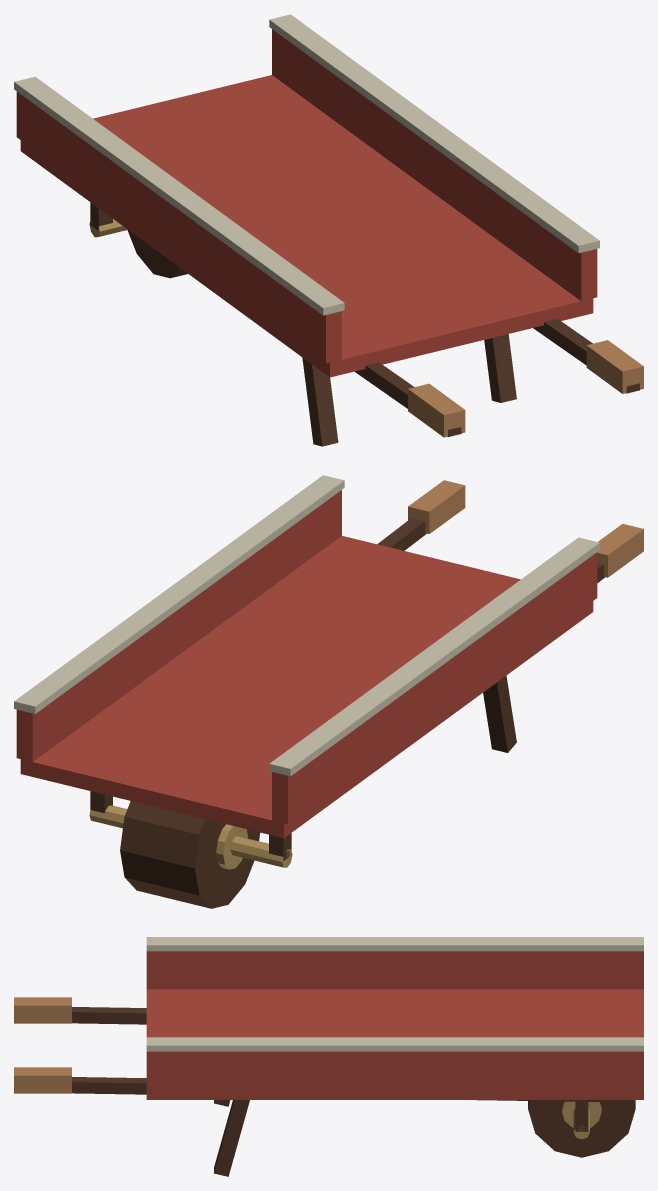
File: Backyard_WheelbarrowChute_Simple.glb
3 renders of one model, top to bottom at view 1: azimuth 30°, elevation 25°; view 2: azimuth 150°, elevation 25°; view 3: azimuth 270°, elevation 25°, orthographic. The views are drawn at different scales.
Parts seen in each view (by area): view 1: Backyard_WheelbarrowChute_Simple; view 2: Backyard_WheelbarrowChute_Simple; view 3: Backyard_WheelbarrowChute_Simple.
Boxes of the visible parts, <box> form: Backyard_WheelbarrowChute_Simple: <box>14,14,643,446</box>; Backyard_WheelbarrowChute_Simple: <box>14,475,643,908</box>; Backyard_WheelbarrowChute_Simple: <box>14,937,643,1176</box>.
Bounding box in the file's own units: 3.1 × 2.02 × 7.6.
